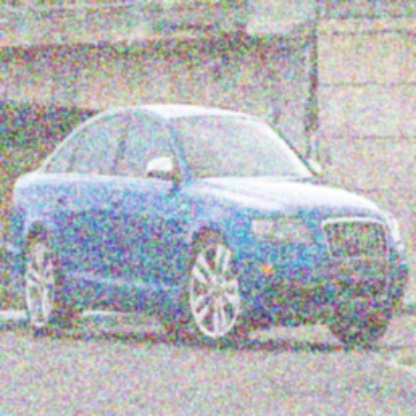Vehicle: (9, 102, 409, 349)
